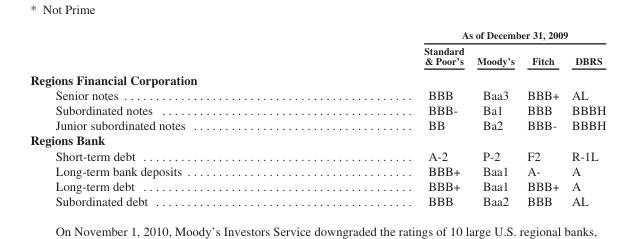table: (29, 29, 605, 207)
table column: (29, 29, 303, 207), (303, 29, 469, 207), (469, 29, 520, 207), (520, 29, 564, 207), (564, 29, 605, 207)
table column header: (29, 29, 605, 69)
table projected row header: (29, 69, 605, 87), (29, 132, 605, 147)
table row: (29, 42, 605, 69), (29, 69, 605, 87), (29, 162, 605, 178), (29, 87, 605, 102), (29, 102, 605, 117), (29, 117, 605, 132), (29, 132, 605, 147), (29, 147, 605, 162), (29, 178, 605, 193), (29, 193, 605, 207), (29, 29, 605, 42)
table spanning cell: (303, 29, 605, 42)
